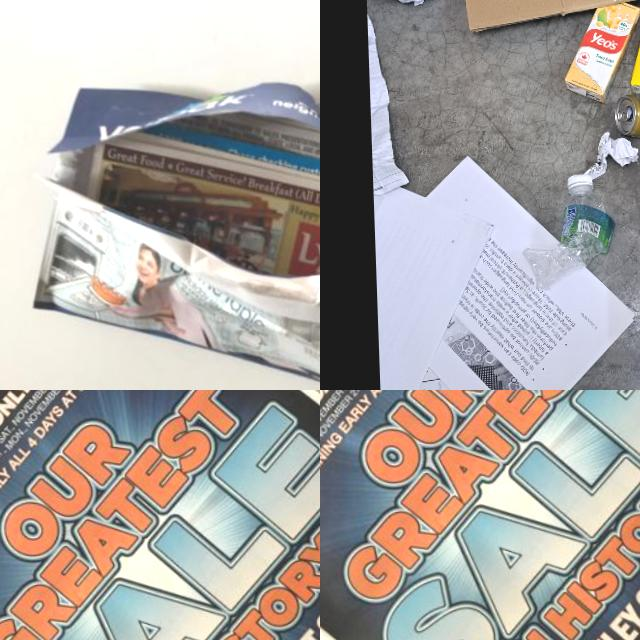aba de lata: (616, 108, 627, 120)
caixinha: (562, 0, 640, 103)
garrafa plástica: (520, 188, 618, 290)
lata: (613, 91, 640, 141)
papel: (27, 41, 320, 390), (0, 390, 320, 640), (320, 390, 640, 640), (372, 149, 638, 390), (368, 13, 408, 193), (582, 130, 640, 180)
tampa plástica: (567, 174, 593, 188)
